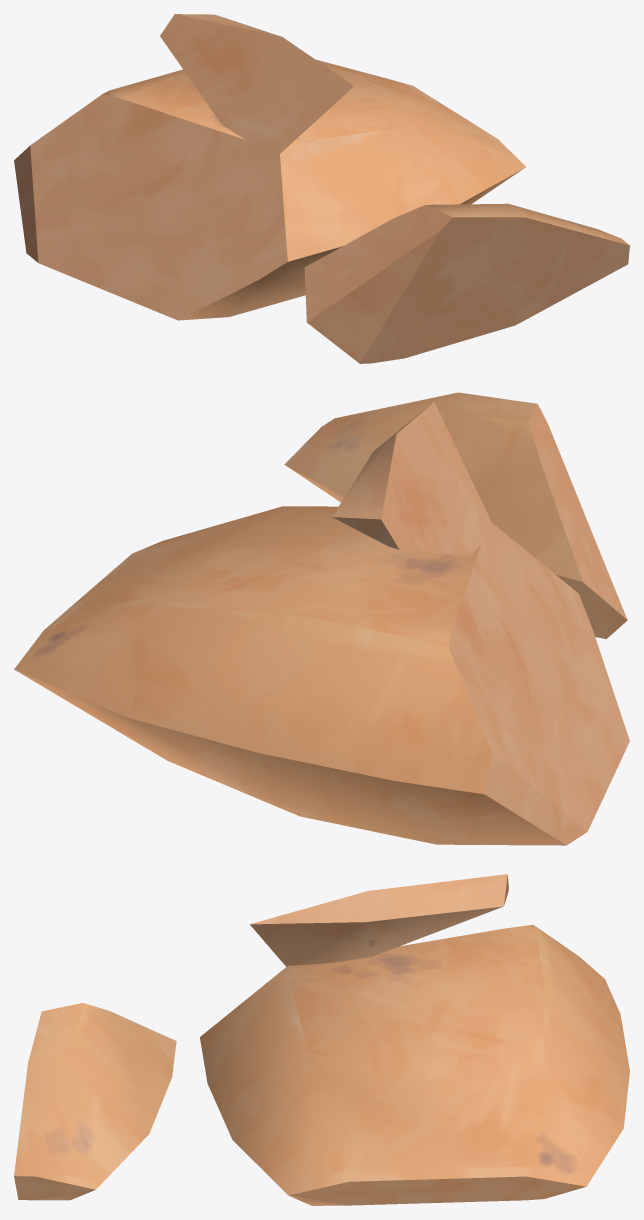
File: sacks_s03.fbx
The picture shows the model from 3 angles, top to bottom: view 1: azimuth 30°, elevation 25°; view 2: azimuth 150°, elevation 25°; view 3: azimuth 270°, elevation 25°; orthographic projection. The views are drawn at different scales.
Visible parts, largest first — view 1: sacks_s03; view 2: sacks_s03; view 3: sacks_s03.
Part boxes in pixels (box(x1,y1,x2,y2)): sacks_s03: box(14, 14, 629, 363); sacks_s03: box(14, 392, 629, 845); sacks_s03: box(14, 874, 629, 1205).
Bounding box in the file's own units: 2.44 × 1.34 × 2.74.
